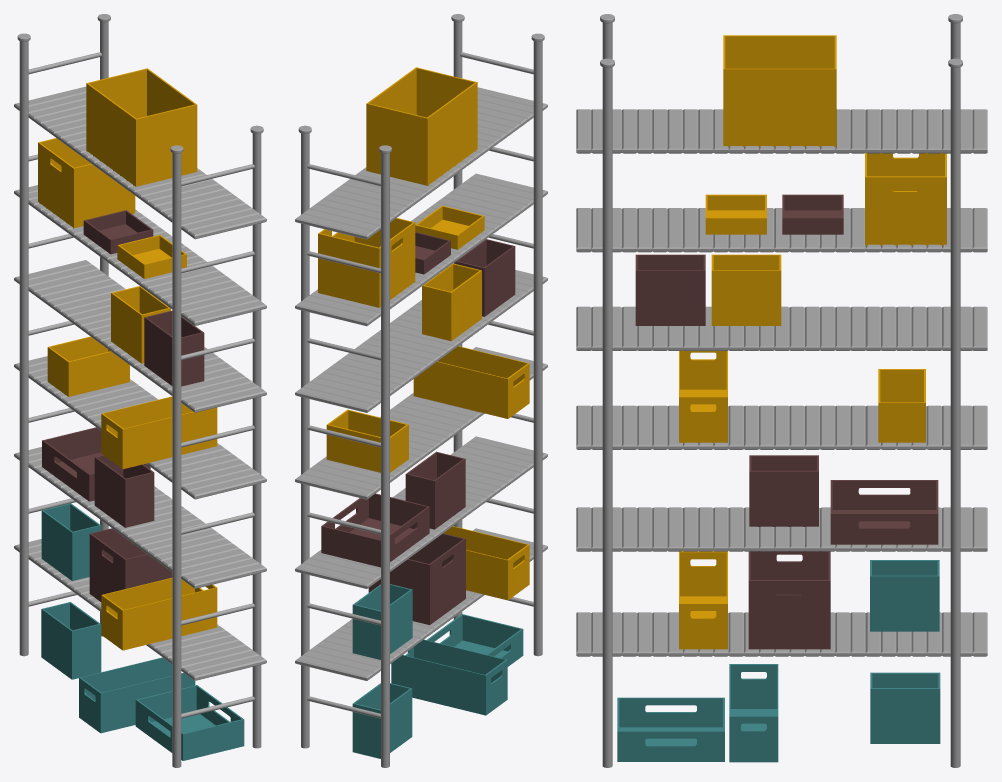
The model's file is BoxShelves04.fbx.
3 views of the same model, side by side, from view 1: azimuth 30°, elevation 25°; view 2: azimuth 150°, elevation 25°; view 3: azimuth 270°, elevation 25° (orthographic). The views are drawn at different scales.
Visible parts, largest first — view 1: BoxShelves04; view 2: BoxShelves04; view 3: BoxShelves04.
Boxes of the visible parts, <box> form: BoxShelves04: <box>14,14,266,767</box>; BoxShelves04: <box>295,14,547,767</box>; BoxShelves04: <box>576,14,987,767</box>.
Size of the model in its own units: 39.89 by 217 by 115.
